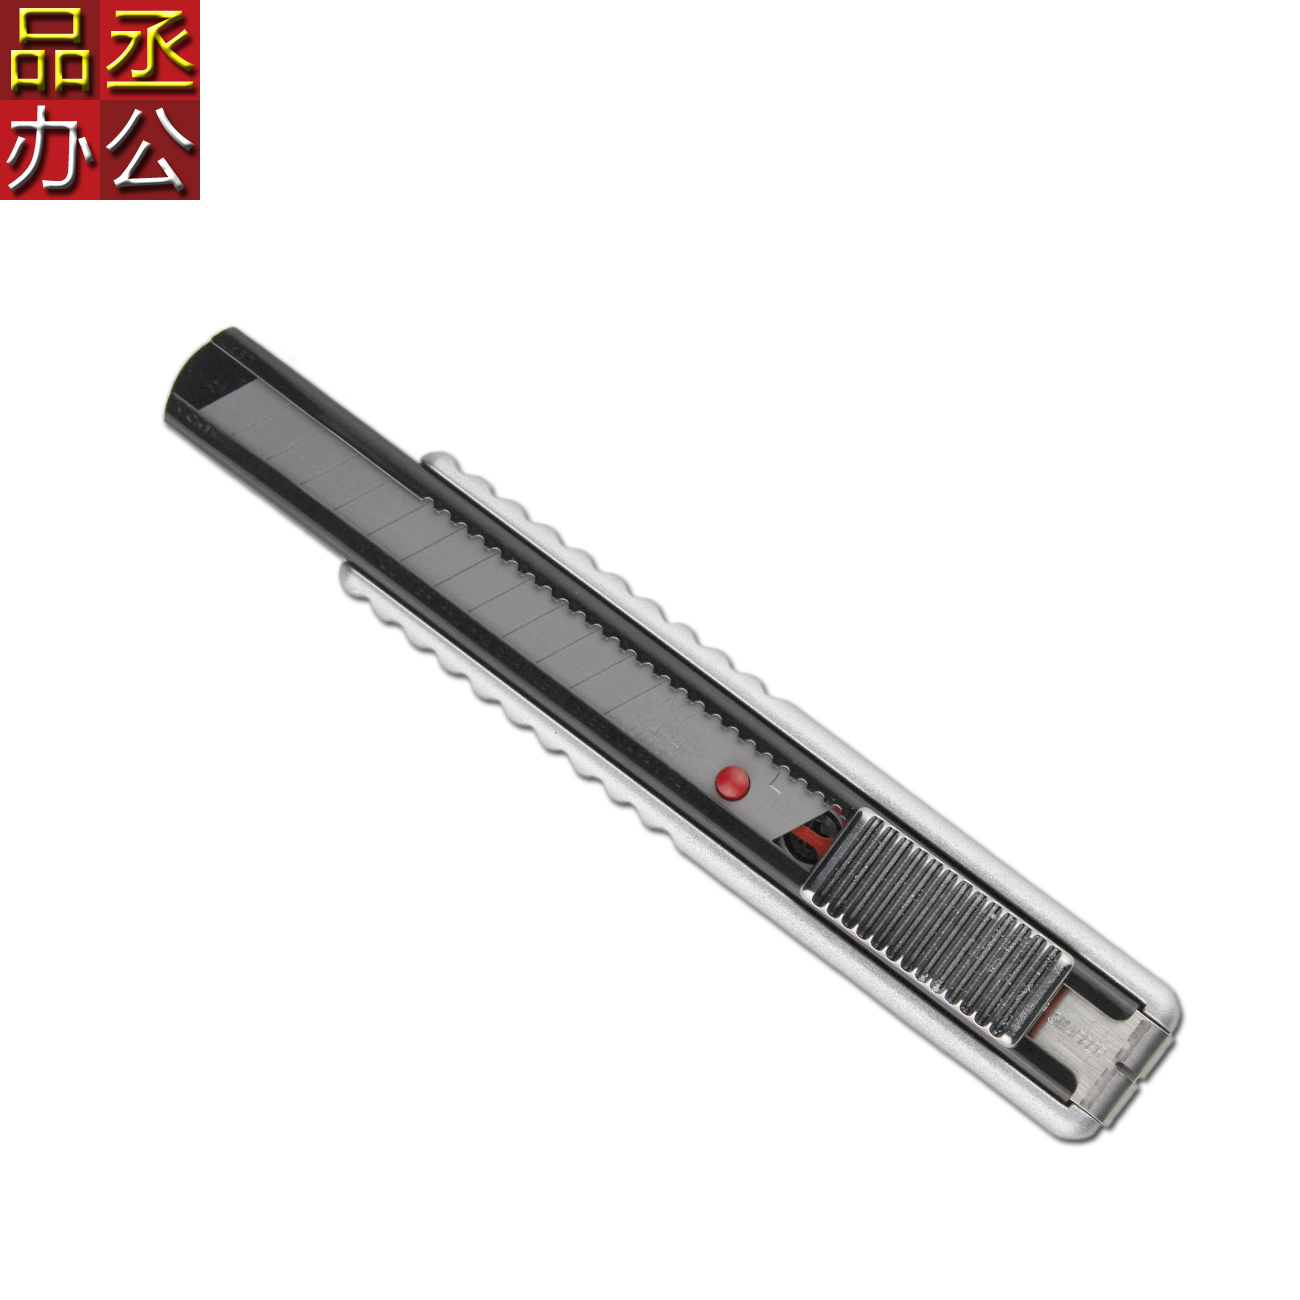cutter: (162, 324, 1189, 1150)
